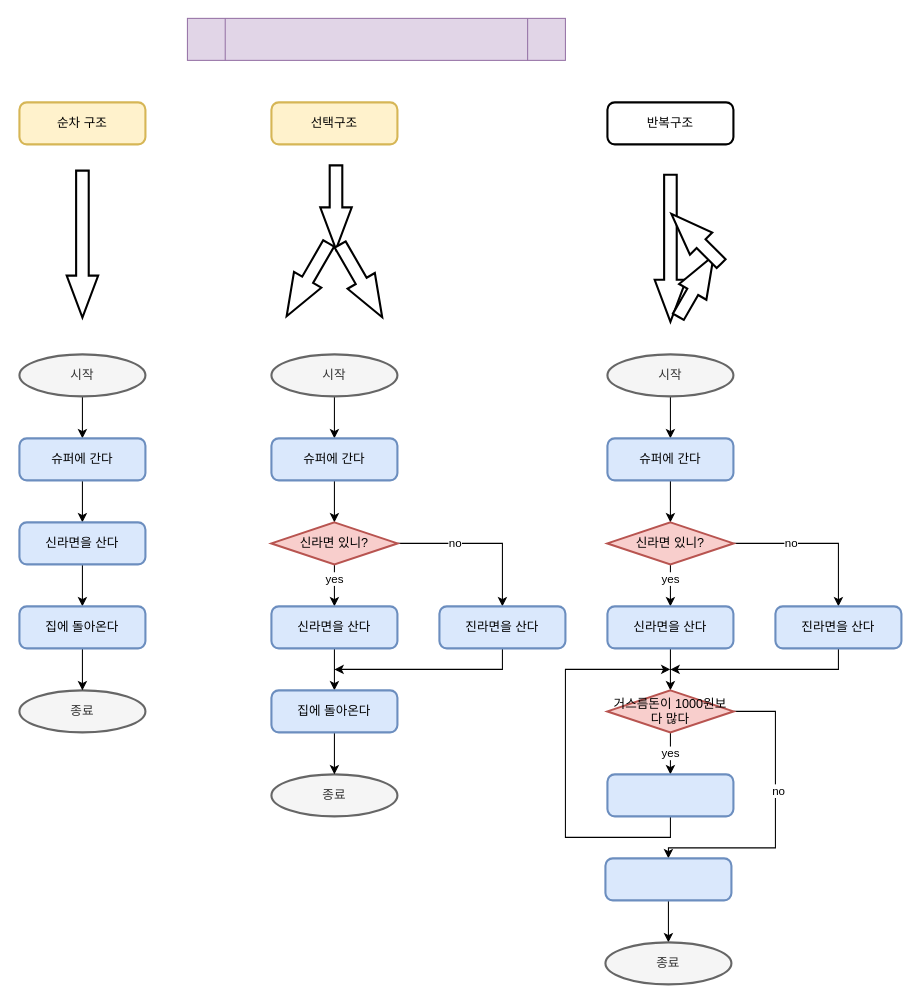
The diagram is 920 pixels wide and 1004 high, and some of its shapes have lost their labels. The centre of each missing label's shape, as x and y in pixels:
"3 Basics" goes at pixel 375 38.
"붕어빵을 산다" goes at pixel 670 795.
"집에 돌아간다" goes at pixel 668 879.
